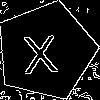X: (21, 26, 59, 74)
